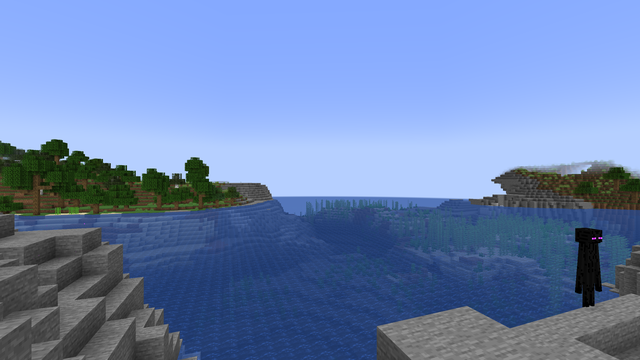endermens: (573, 224, 604, 310)
